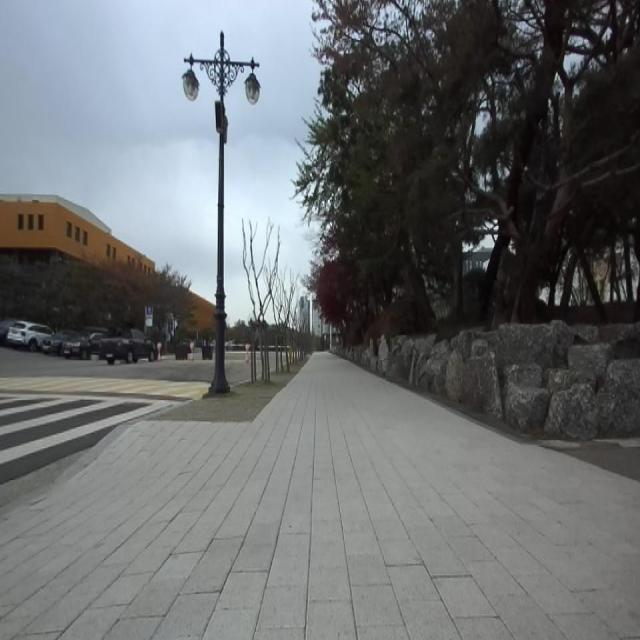sidewalk: (0, 354, 640, 639), (539, 437, 640, 480)
